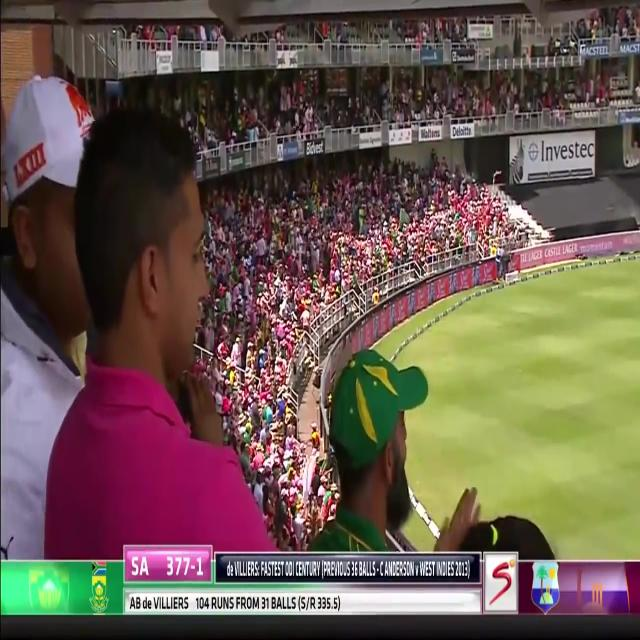Ball: (0, 48, 269, 560)
